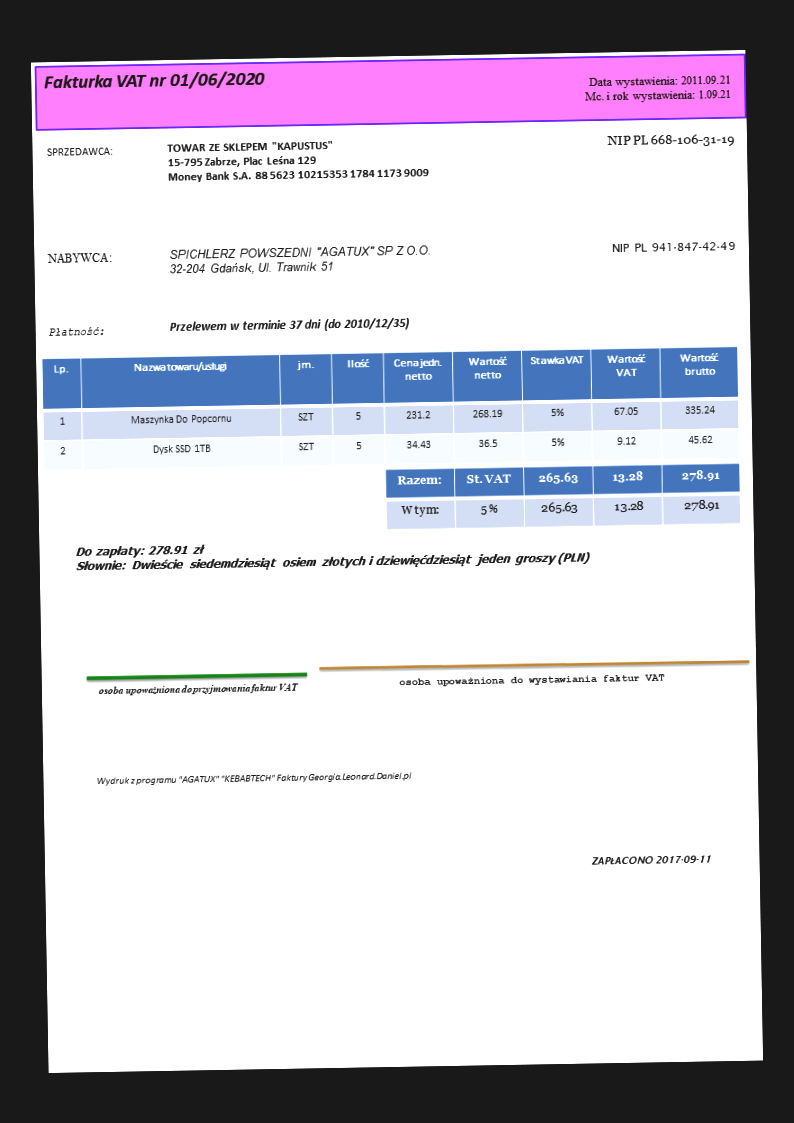Table: (41, 344, 741, 474), (385, 461, 742, 531)
TextBox: (74, 534, 592, 577), (164, 137, 429, 184), (166, 241, 434, 277), (96, 769, 413, 789), (42, 69, 266, 94), (580, 70, 732, 105), (167, 315, 410, 336), (397, 671, 666, 689), (97, 681, 299, 699), (604, 130, 735, 151), (610, 239, 737, 256), (589, 851, 713, 867), (45, 249, 114, 266), (44, 144, 114, 159), (47, 323, 105, 339)
